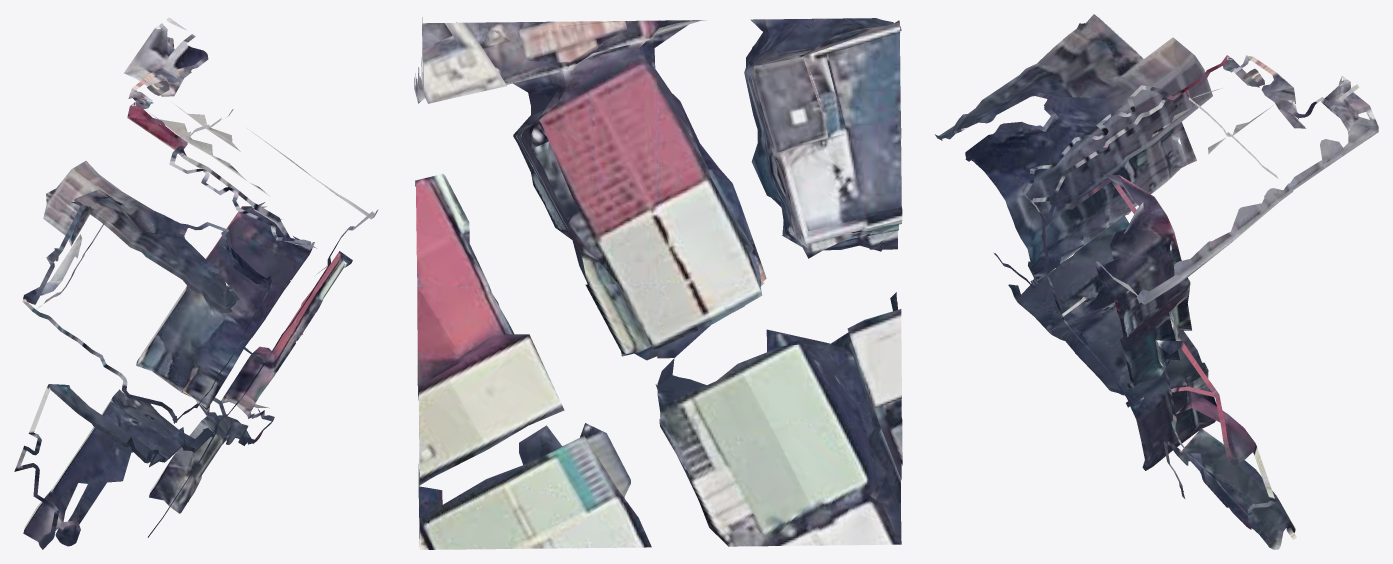
3 views of the same model, side by side, from view 1: azimuth 30°, elevation 25°; view 2: azimuth 150°, elevation 25°; view 3: azimuth 270°, elevation 25° (orthographic). The views are drawn at different scales.
Size of the model in its own units: 41.9 by 47.12 by 42.23.
Materials: 1 (1 with a texture image).
